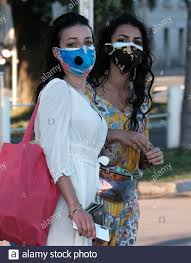with-mask: (44, 9, 99, 84), (101, 13, 149, 84)
